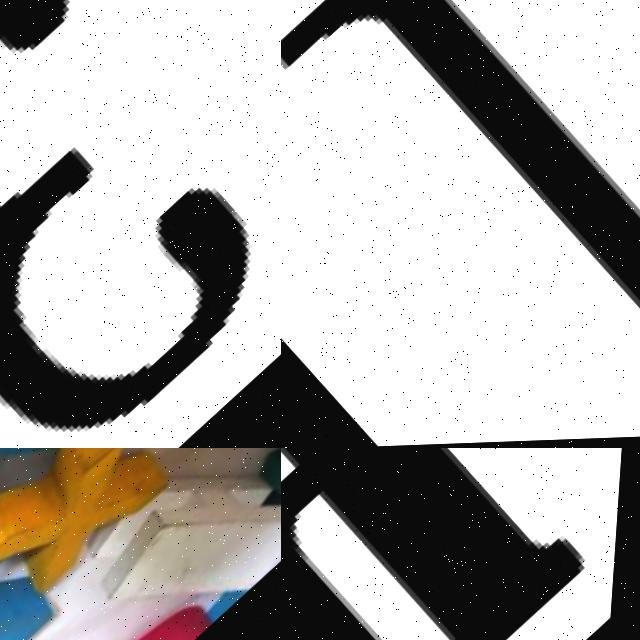1: (281, 0, 640, 434)
3: (0, 0, 281, 448)
R: (281, 448, 636, 640)
V: (0, 536, 71, 640)
X: (0, 448, 185, 631)
